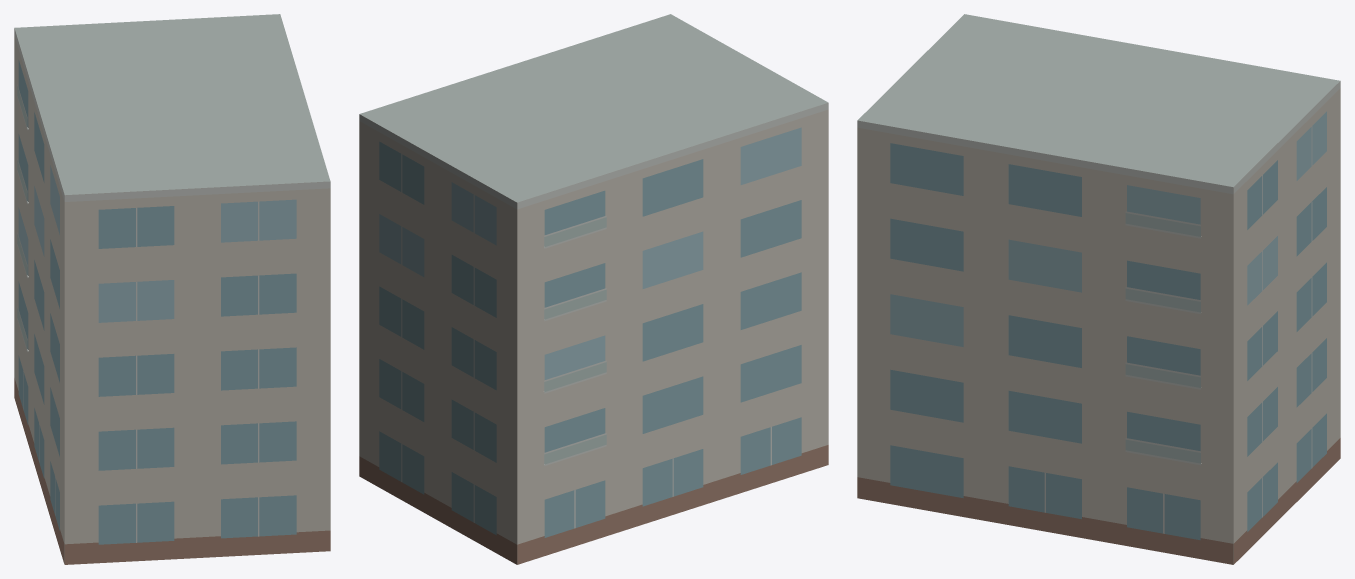
The model's file is survey-upis-32527746.glb.
3 views of the same model, side by side, from view 1: azimuth 30°, elevation 25°; view 2: azimuth 150°, elevation 25°; view 3: azimuth 270°, elevation 25° (orthographic). The views are drawn at different scales.
Visible parts, largest first — view 1: survey-upis-32527746.tmp; view 2: survey-upis-32527746.tmp; view 3: survey-upis-32527746.tmp.
Boxes of the visible parts, box(x1,y1,x2,y2) form: survey-upis-32527746.tmp: box(14, 14, 330, 564); survey-upis-32527746.tmp: box(359, 14, 828, 564); survey-upis-32527746.tmp: box(857, 14, 1340, 564).
Bounding box in the file's own units: 12.79 × 13 × 15.08.
